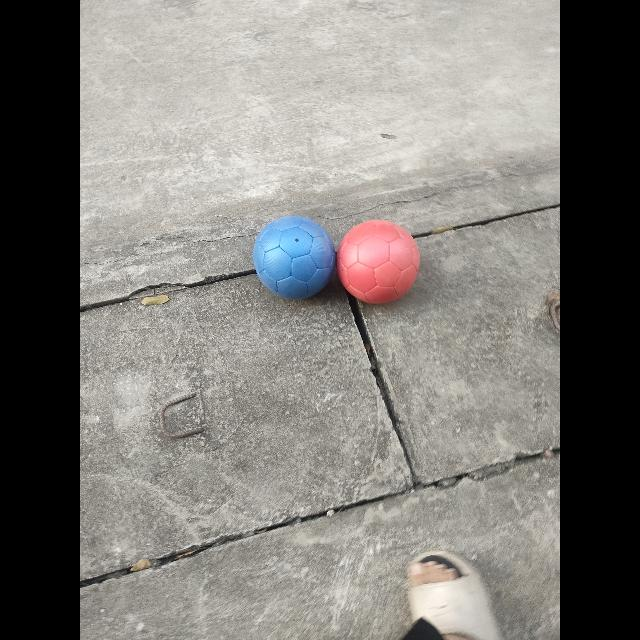B: (252, 216, 336, 300)
R: (336, 220, 419, 304)
